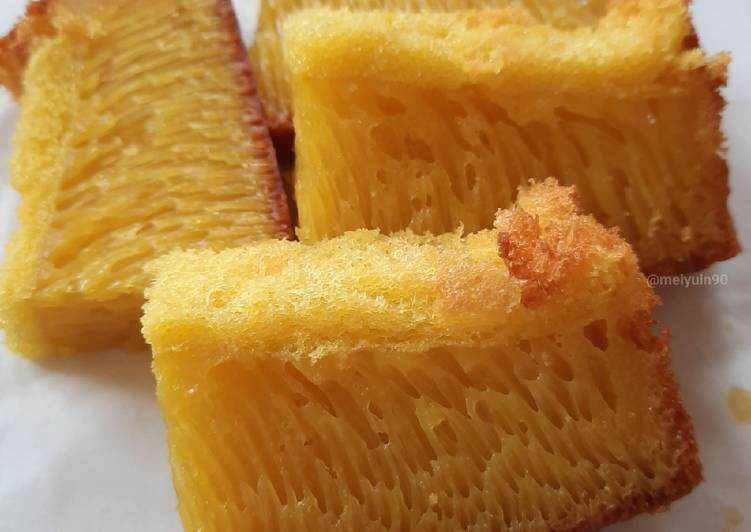bika_ambon: (121, 215, 661, 532), (259, 4, 751, 298)
